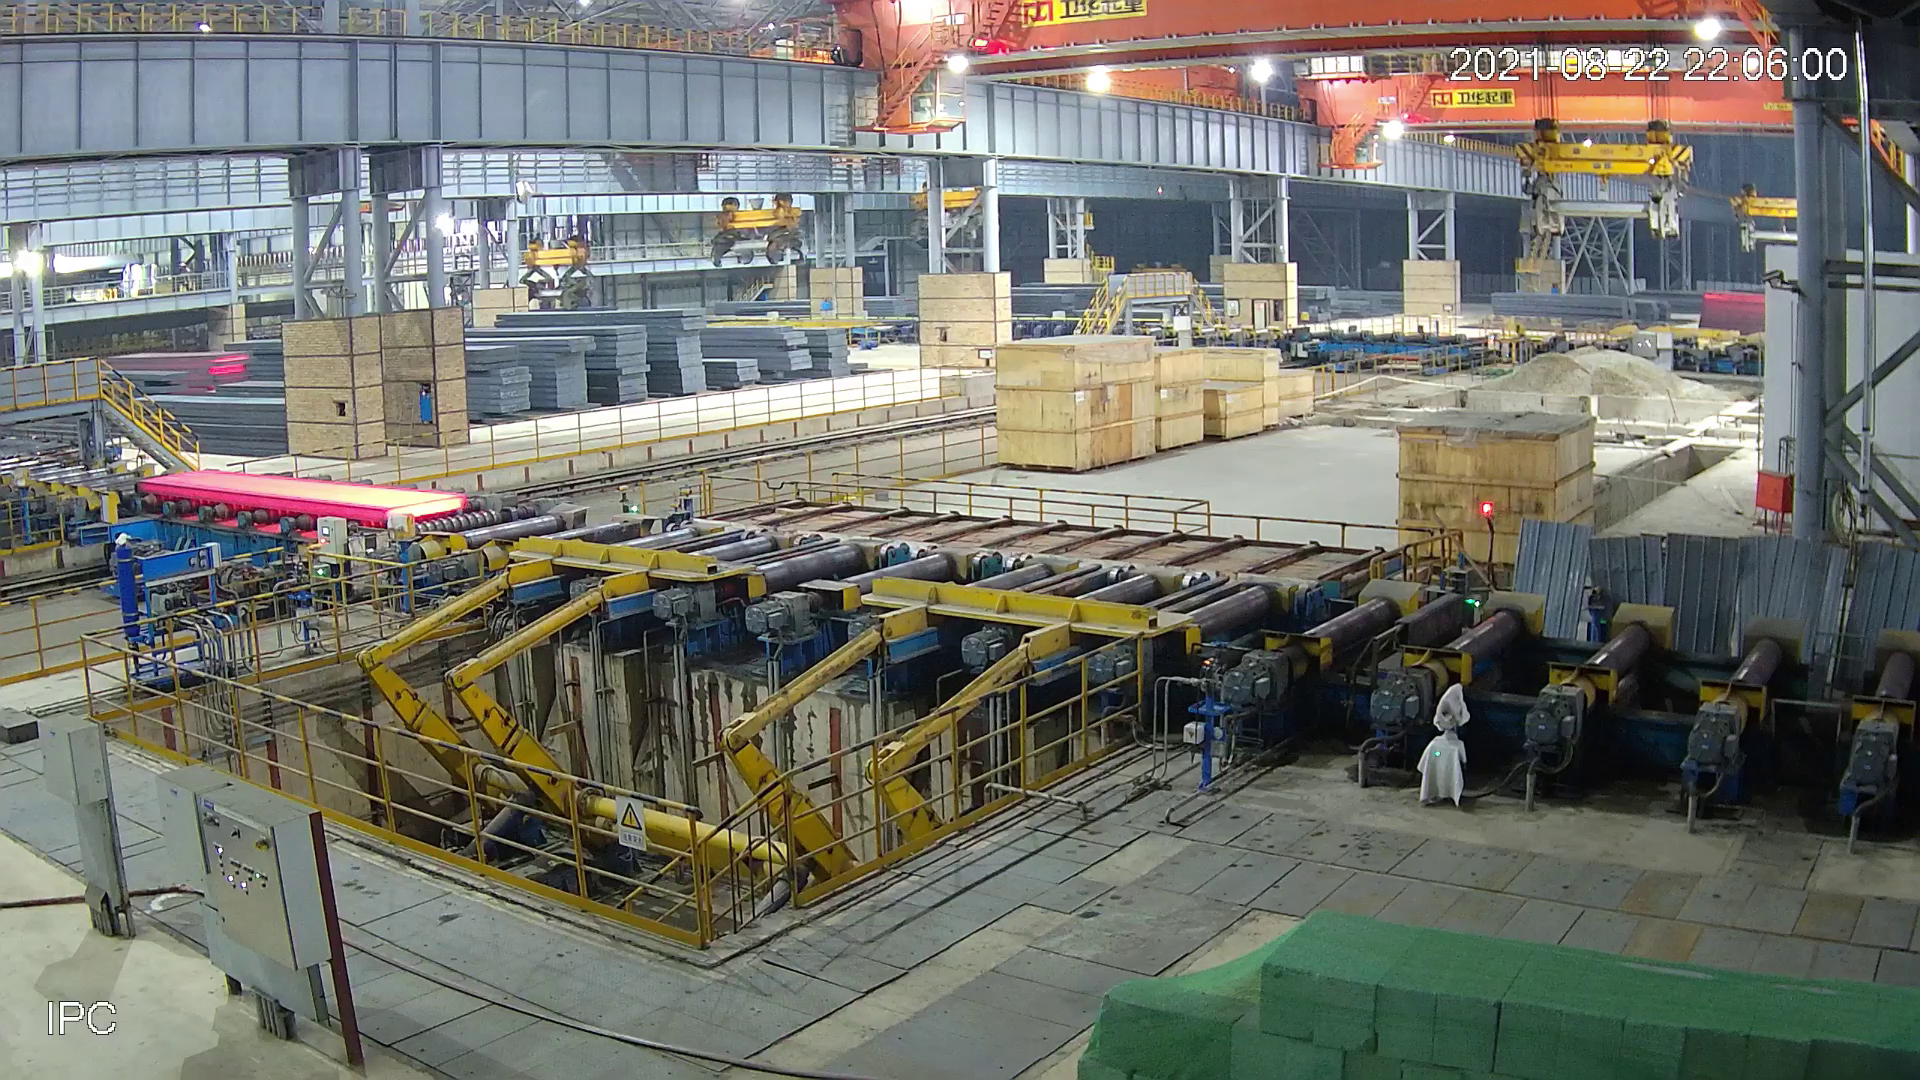slab: (135, 469, 465, 524)
